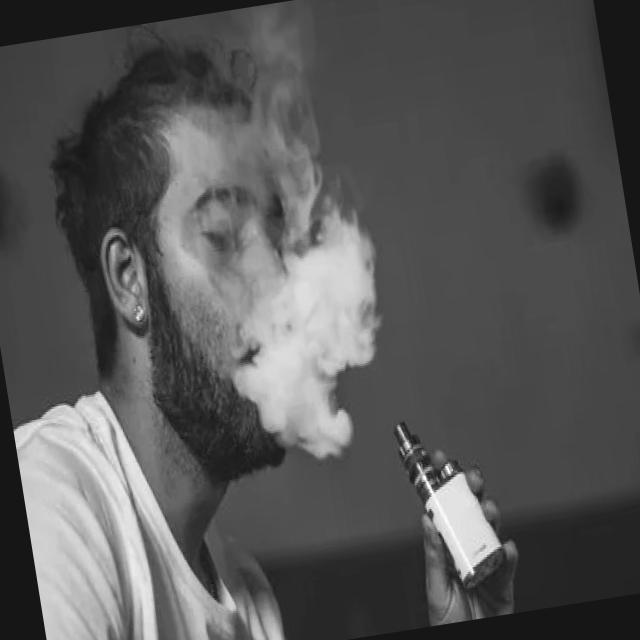smoke: (389, 404, 512, 602)
